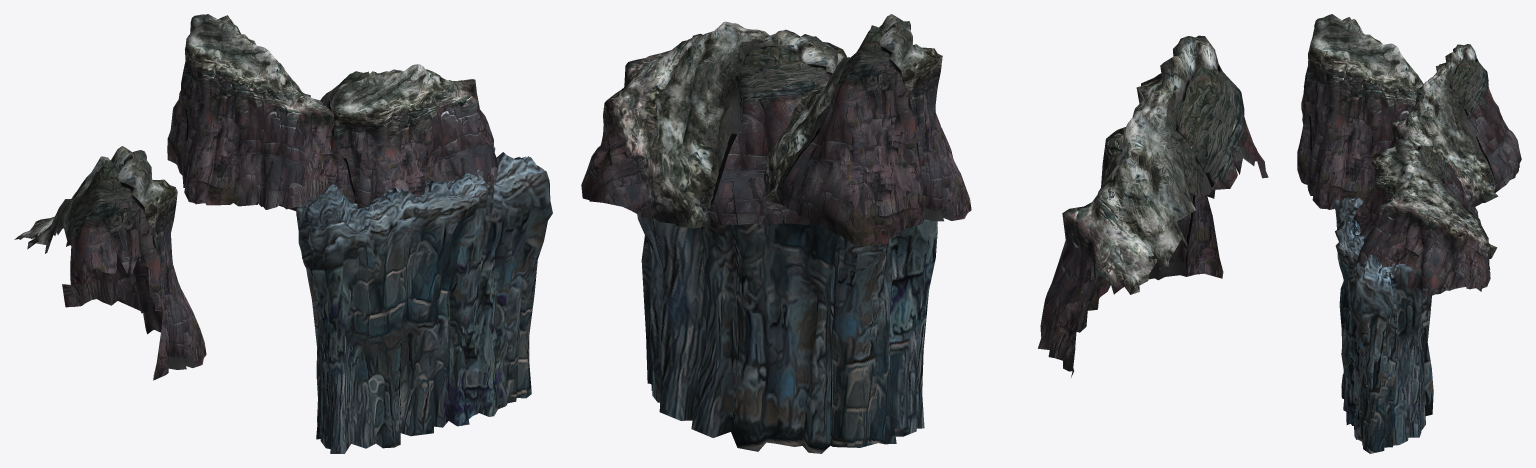
The model's file is Maincity_Mountain2.FBX.
3 renders of one model, left to right at view 1: azimuth 30°, elevation 25°; view 2: azimuth 150°, elevation 25°; view 3: azimuth 270°, elevation 25°, orthographic. The views are drawn at different scales.
Visible parts, largest first — view 1: default007, default002, default006, default005; view 2: default007, default005, default006, default002; view 3: default007, default006, default005, default002.
Boxes of the visible parts, box(x1,y1,x2,y2) form: default007: box(296, 145, 552, 453); default002: box(167, 14, 336, 209); default006: box(14, 146, 206, 380); default005: box(279, 64, 498, 233); default007: box(637, 214, 937, 453); default005: box(581, 21, 846, 228); default006: box(1038, 35, 1268, 377); default002: box(764, 14, 971, 247); default007: box(1333, 197, 1433, 453); default006: box(1297, 14, 1423, 209); default005: box(1353, 138, 1497, 296); default002: box(1389, 44, 1521, 206).
Size of the model in its own units: 52304 by 40926 by 26596.
